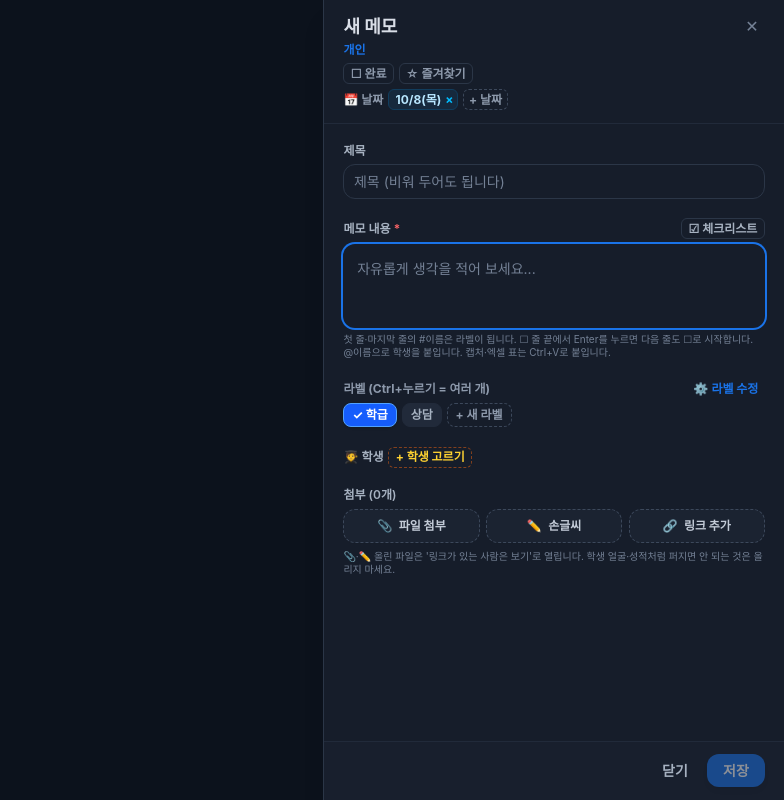
Test: 새 메모 › 그날 새 메모: 그 날짜 링크 하나·맨 위 라벨, 저장하면 그날 맨 뒤에 만들고 그 항목의 수정 칸이 된다
Expected: the button "저장" is disabled, top-left (707, 754), bottom-right (765, 787)
Type "  체육대회 준비 " into the text box with placeholder "자유롭게 생각을 적어 보세요..." at (554, 286), box top-left (343, 244), bottom-right (765, 328)
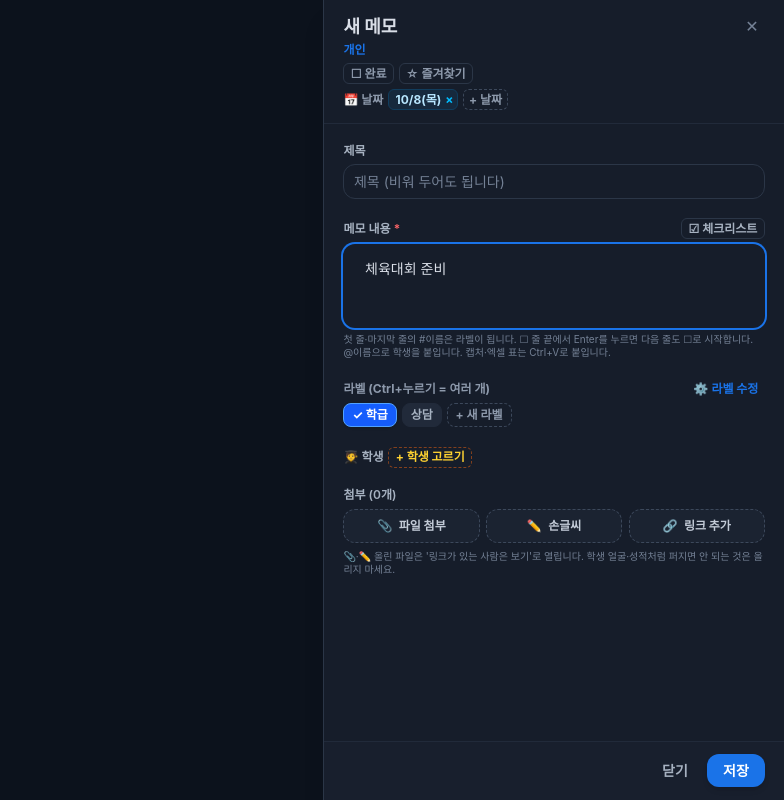
Click the button "저장" at (736, 771), box top-left (707, 754), bottom-right (765, 787)
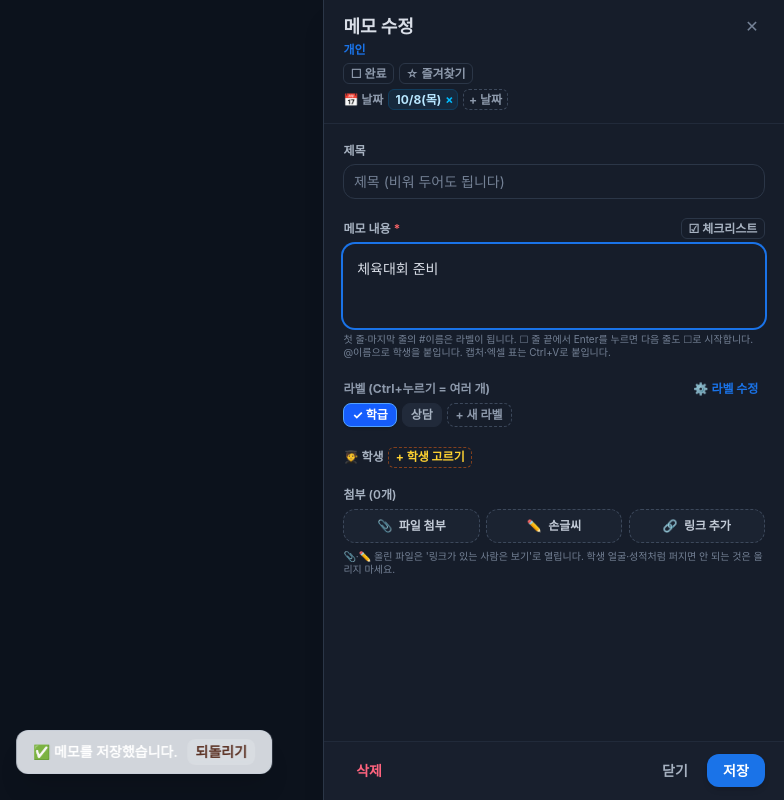
Expected: the message "✅ 메모를 저장했습니다. 되돌리기" is shown, top-left (16, 730), bottom-right (272, 774)
Expected: the text box holds "체육대회 준비", top-left (343, 244), bottom-right (765, 328)
